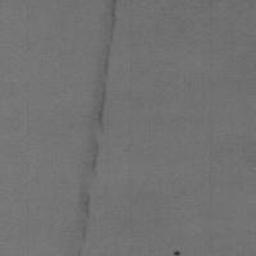Inclusion: (74, 0, 118, 256), (172, 250, 183, 256)
